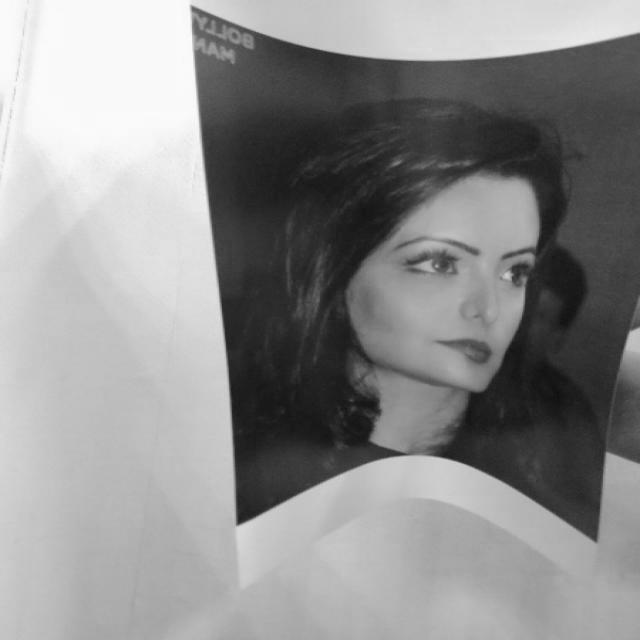fake: (182, 1, 637, 589)
